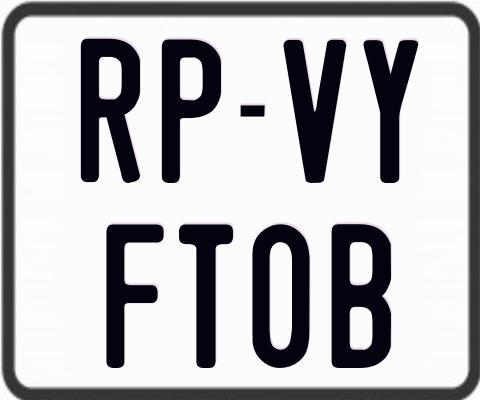0: (251, 223, 309, 369)
B: (332, 222, 396, 367)
F: (105, 222, 164, 366)
P: (161, 38, 223, 184)
R: (79, 36, 143, 181)
T: (178, 223, 235, 367)
V: (283, 38, 348, 182)
Y: (364, 40, 424, 188)
